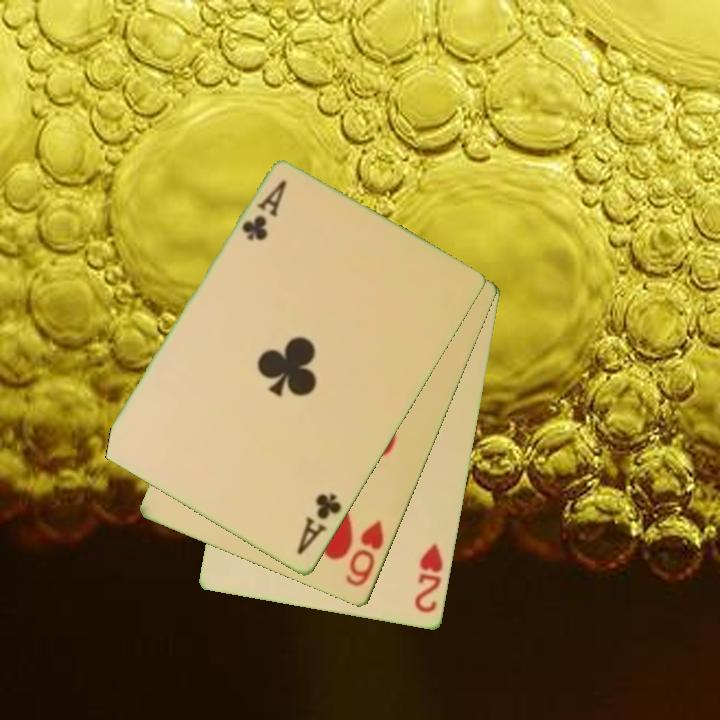2h: (411, 540, 447, 617)
6h: (342, 517, 387, 590)
Ac: (293, 490, 345, 558), (238, 177, 290, 245)
